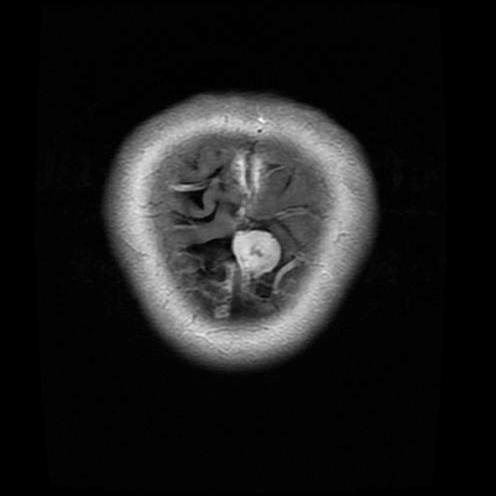Tumour-Pituitary: (221, 203, 290, 292)
